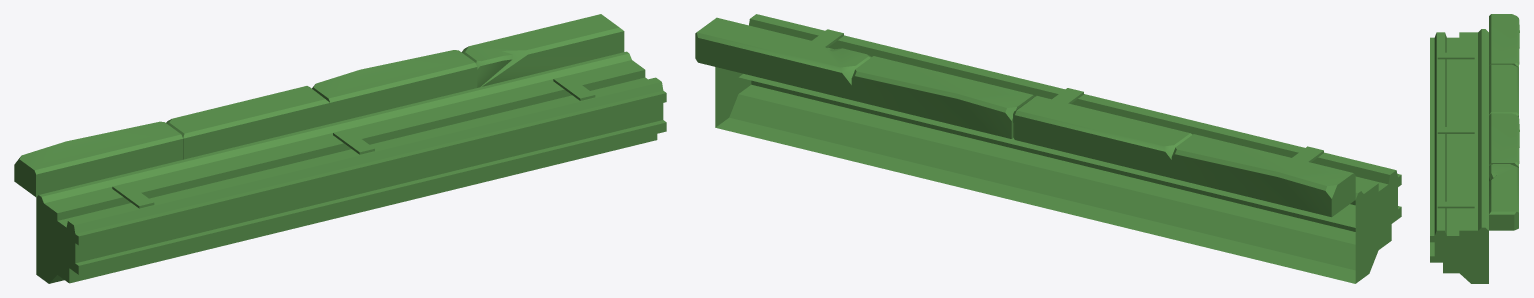
File: parapet top tile lod0.FBX
The picture shows the model from 3 angles, left to right: view 1: azimuth 30°, elevation 25°; view 2: azimuth 150°, elevation 25°; view 3: azimuth 270°, elevation 25°; orthographic projection. The views are drawn at different scales.
Parts seen in each view (by area): view 1: Plane027; view 2: Plane027; view 3: Plane027.
Boxes of the visible parts, <box> form: Plane027: <box>14,14,666,283</box>; Plane027: <box>695,14,1401,283</box>; Plane027: <box>1430,14,1519,283</box>.
Size of the model in its own units: 4 by 0.6875 by 0.764.
